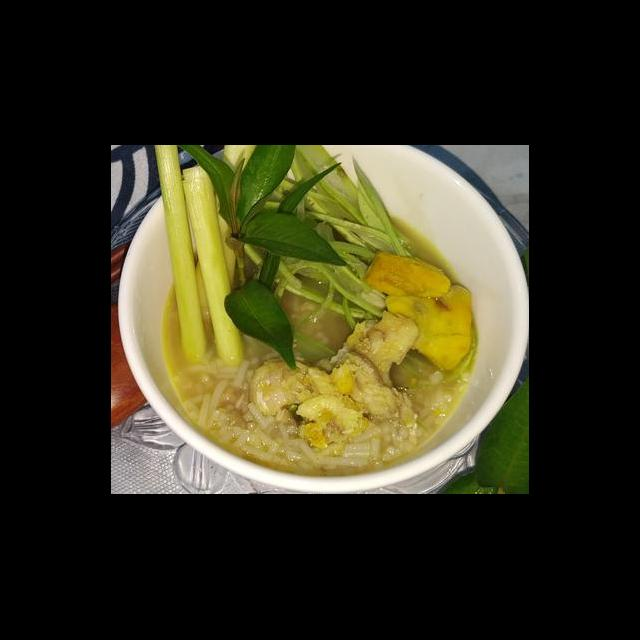bun: (170, 358, 306, 458), (245, 429, 426, 484)
bun ca: (132, 176, 529, 494)
ca: (297, 304, 426, 428), (356, 244, 454, 304)
rau ram: (175, 147, 352, 270), (220, 276, 301, 376)
